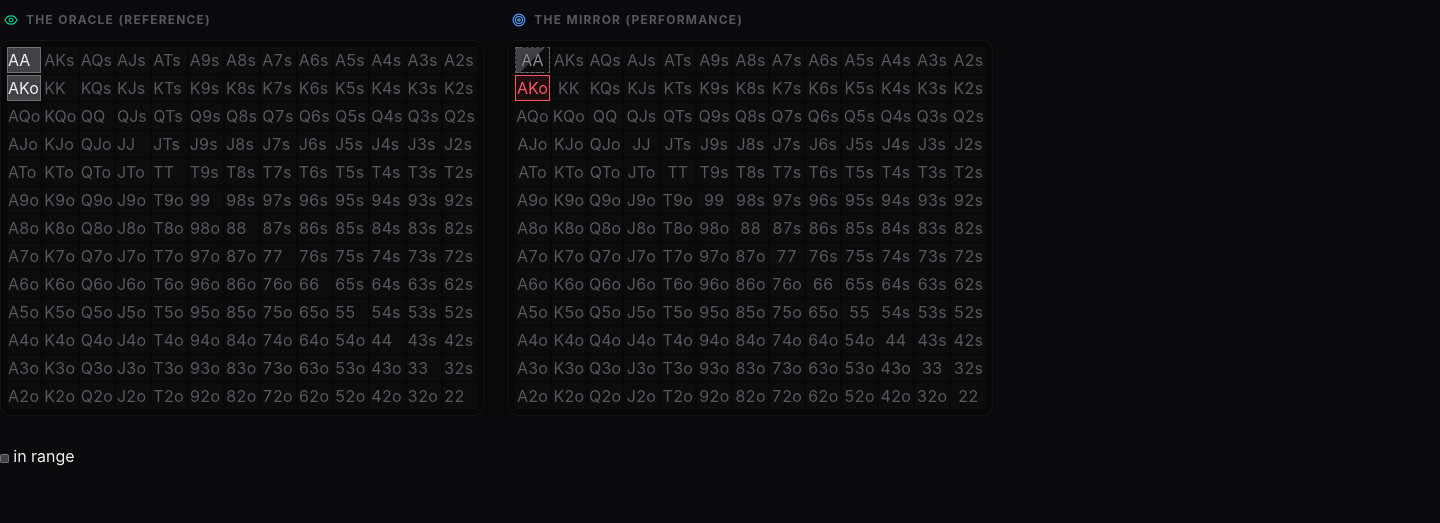
Test: DualRangeMatrix › shows compliant hand details after selecting a mirror cell
Click the button "AA" at (532, 60), box [515,47,550,73]
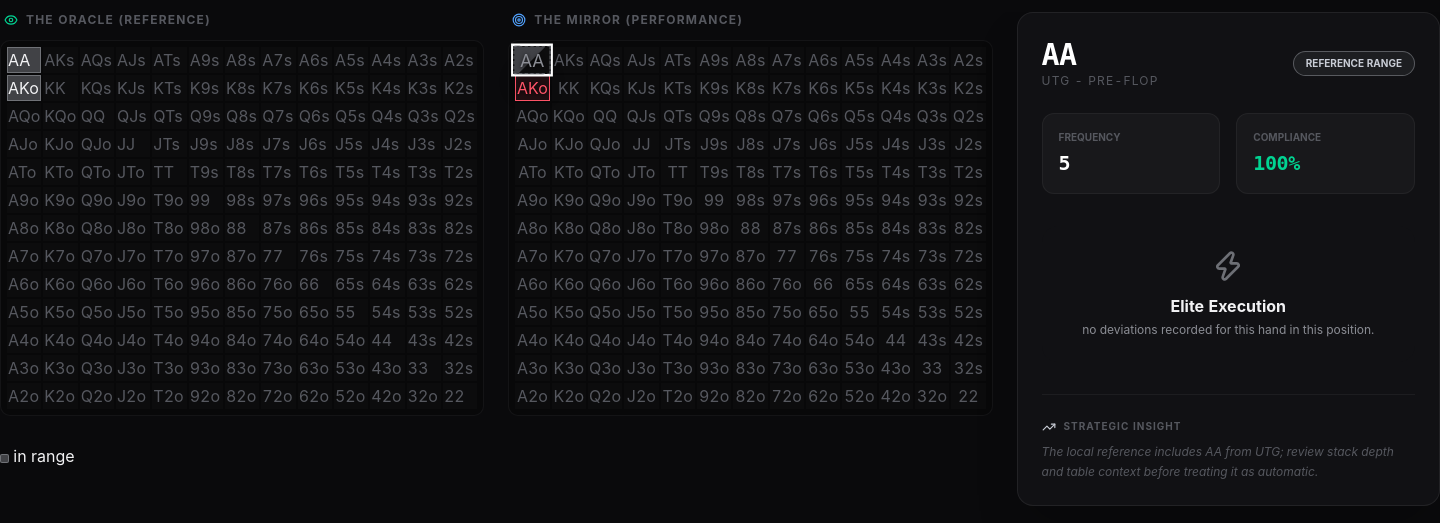
Result: the text "UTG - Pre-flop" is shown at [1042,73,1159,89]
Result: the text "Reference Range" is shown at [1293,50,1415,76]
Result: the text "Frequency" is shown at [1058,131,1120,143]
